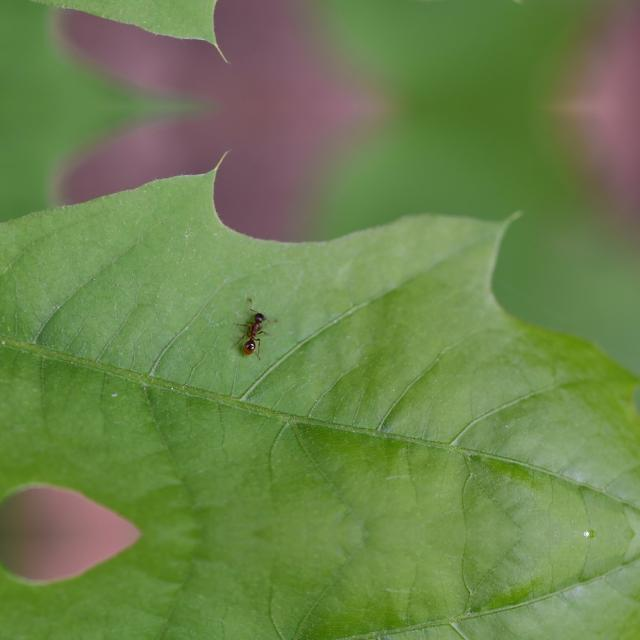Myrmica: (228, 295, 276, 367)
